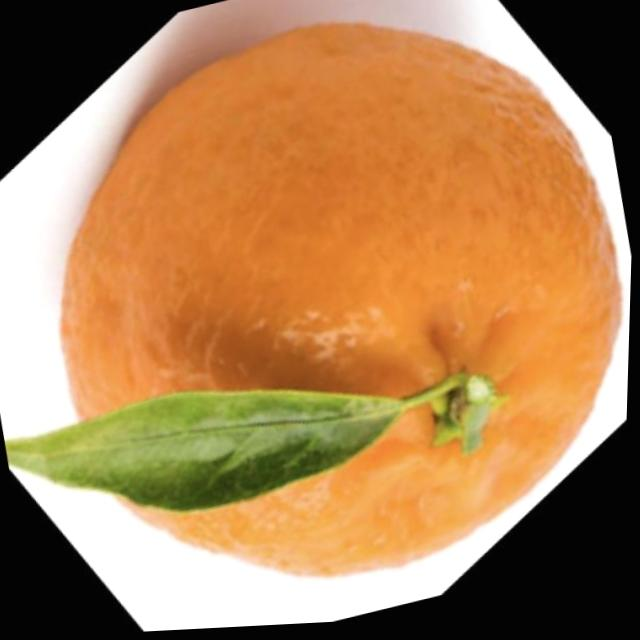Orange: (5, 0, 640, 639)
